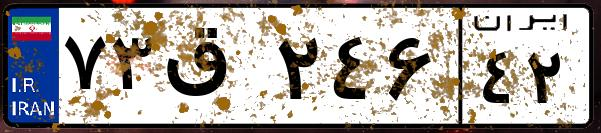2: (270, 28, 330, 110), (525, 38, 570, 115)
3: (110, 28, 158, 98)
4: (330, 28, 385, 110), (475, 38, 525, 113)
6: (385, 28, 445, 110)
7: (57, 26, 110, 100)
ق: (158, 20, 270, 120)
